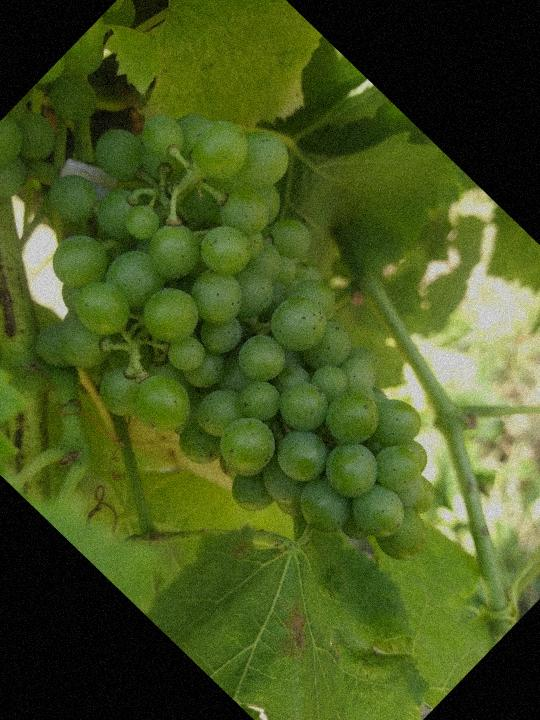grape: (0, 40, 540, 642)
